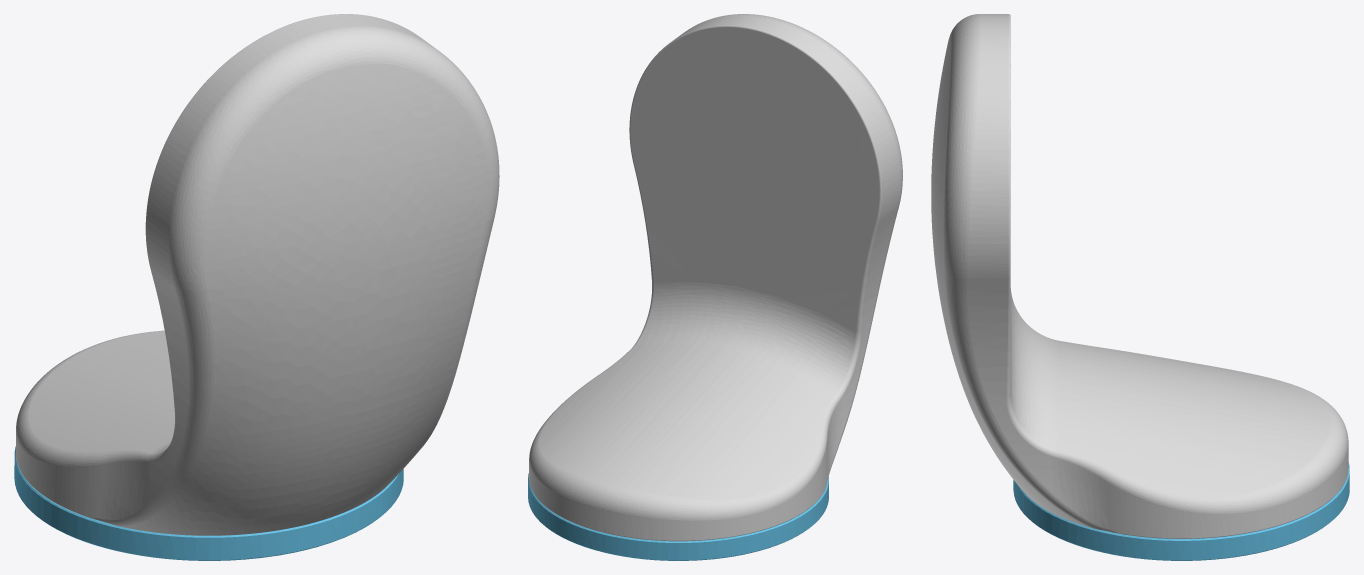
The picture shows the model from 3 angles, left to right: view 1: azimuth 30°, elevation 25°; view 2: azimuth 150°, elevation 25°; view 3: azimuth 270°, elevation 25°; orthographic projection. The views are drawn at different scales.
Parts seen in each view (by area): view 1: Untitled_018; view 2: Untitled_018; view 3: Untitled_018.
Boxes of the visible parts, bbox=[...] form: Untitled_018: bbox=[14, 14, 499, 560]; Untitled_018: bbox=[528, 14, 902, 560]; Untitled_018: bbox=[931, 14, 1349, 560].
Bounding box in the file's own units: 0.0846 × 0.1053 × 0.128.
